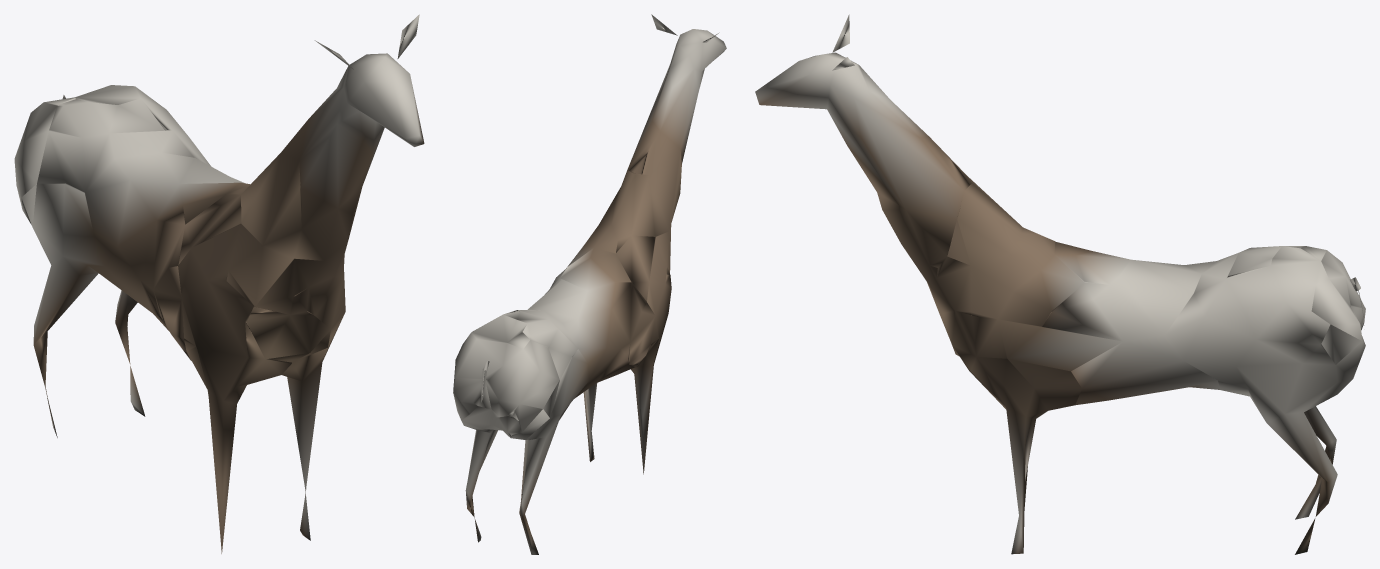
Rendered from lama.glb.
The picture shows the model from 3 angles, left to right: view 1: azimuth 30°, elevation 25°; view 2: azimuth 150°, elevation 25°; view 3: azimuth 270°, elevation 25°; orthographic projection. The views are drawn at different scales.
Parts seen in each view (by area): view 1: lack; view 2: lack; view 3: lack.
Part boxes in pixels (x1,y1,x2,y2): lack: [14, 14, 424, 553]; lack: [453, 14, 726, 554]; lack: [755, 14, 1365, 554].
Size of the model in its own units: 0.4969 by 2.01 by 2.21.
